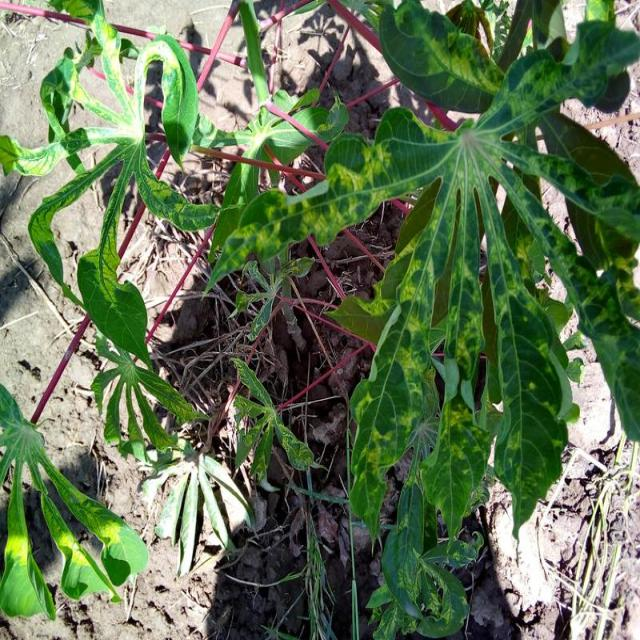Mosaico: (260, 87, 640, 492), (25, 7, 209, 279), (11, 377, 116, 598), (82, 323, 191, 463)
